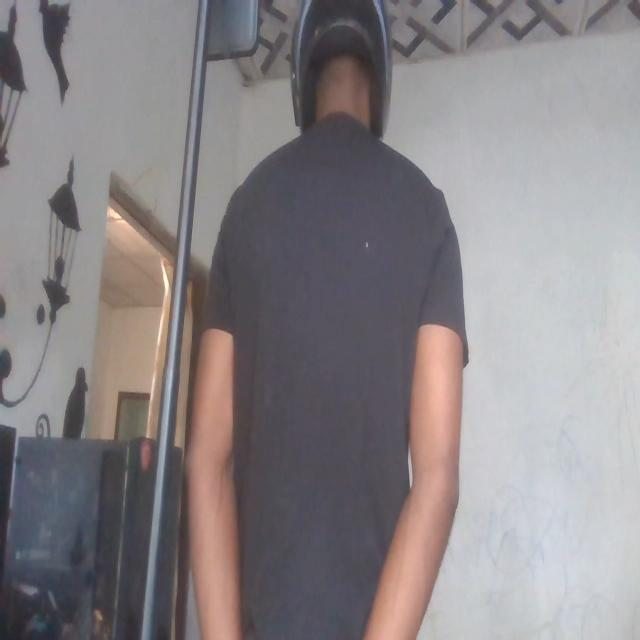Helmet_Wearer: (291, 0, 392, 172)
Person: (176, 0, 472, 640)
